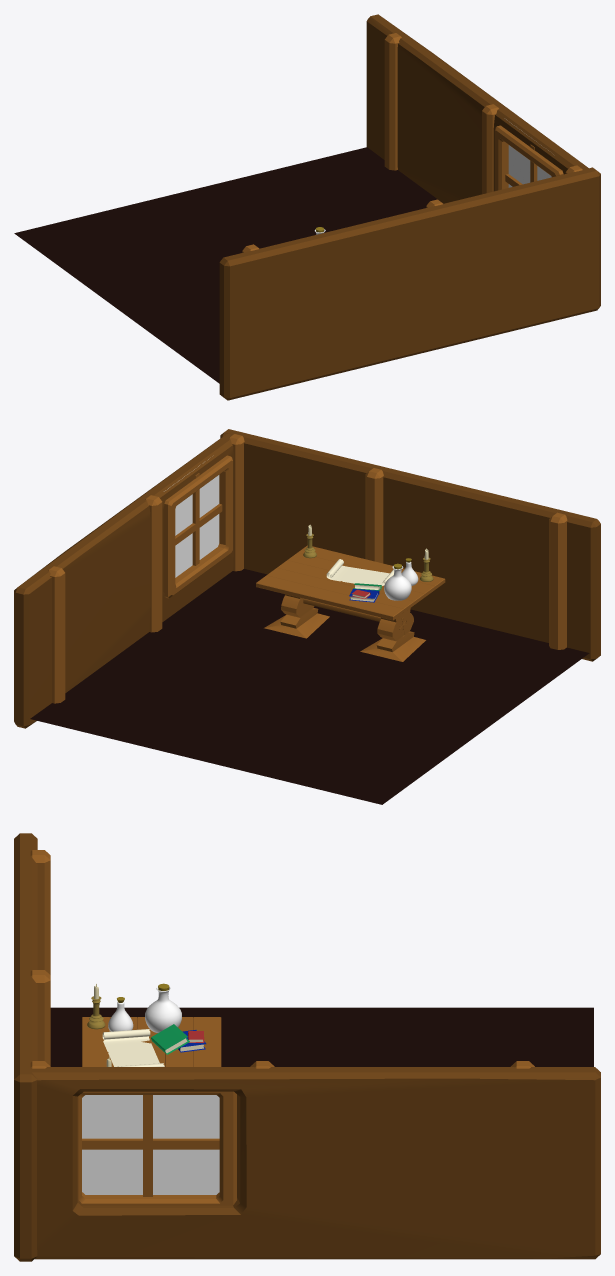
The model's file is firsttry.fbx.
The picture shows the model from 3 angles, top to bottom: view 1: azimuth 30°, elevation 25°; view 2: azimuth 150°, elevation 25°; view 3: azimuth 270°, elevation 25°; orthographic projection. The views are drawn at different scales.
Parts seen in each view (by area): view 1: Wall1, Floor, Wall, Beam2, Frame, Beam1, windowGlass; view 2: Floor, Wall1, Wall, Frame, windowGlass, Beam5, Tabletop1, Beam2, Beam1, tableleg1, Beam4, Beam3 (+8 smaller); view 3: Wall, Floor, windowGlass, Wall1, Frame, Divider, Scroll, Beam5, Beam4, Tabletop1, Tabletop5, FlaskGlass (+2 smaller).
Boxes of the visible parts, <box> form: Wall1: <box>219,167,600,400</box>; Floor: <box>14,147,443,383</box>; Wall: <box>366,14,588,203</box>; Beam2: <box>384,33,401,170</box>; Frame: <box>494,125,563,190</box>; Beam1: <box>482,104,498,194</box>; windowGlass: <box>506,119,551,187</box>; Floor: <box>30,569,589,804</box>; Wall1: <box>220,429,600,661</box>; Wall: <box>14,433,233,728</box>; Frame: <box>163,455,232,598</box>; windowGlass: <box>164,459,219,577</box>; Beam5: <box>549,512,567,649</box>; Tabletop1: <box>256,575,403,620</box>; Beam2: <box>48,566,65,703</box>; Beam1: <box>145,495,162,632</box>; tableleg1: <box>360,608,425,661</box>; Beam4: <box>365,468,383,563</box>; Beam3: <box>229,434,244,571</box>; Wall: <box>32,1067,600,1259</box>; Floor: <box>50,1007,593,1066</box>; windowGlass: <box>82,1095,219,1194</box>; Wall1: <box>14,833,37,1261</box>; Frame: <box>77,1091,236,1205</box>; Divider: <box>82,1095,219,1196</box>; Scroll: <box>102,1029,164,1066</box>; Beam5: <box>30,850,50,974</box>; Beam4: <box>30,970,50,1065</box>; Tabletop1: <box>193,1017,221,1066</box>; Tabletop5: <box>82,1017,109,1066</box>; FlaskGlass: <box>145,987,181,1032</box>.
Size of the model in its own units: 24.6 by 8.91 by 24.8.
